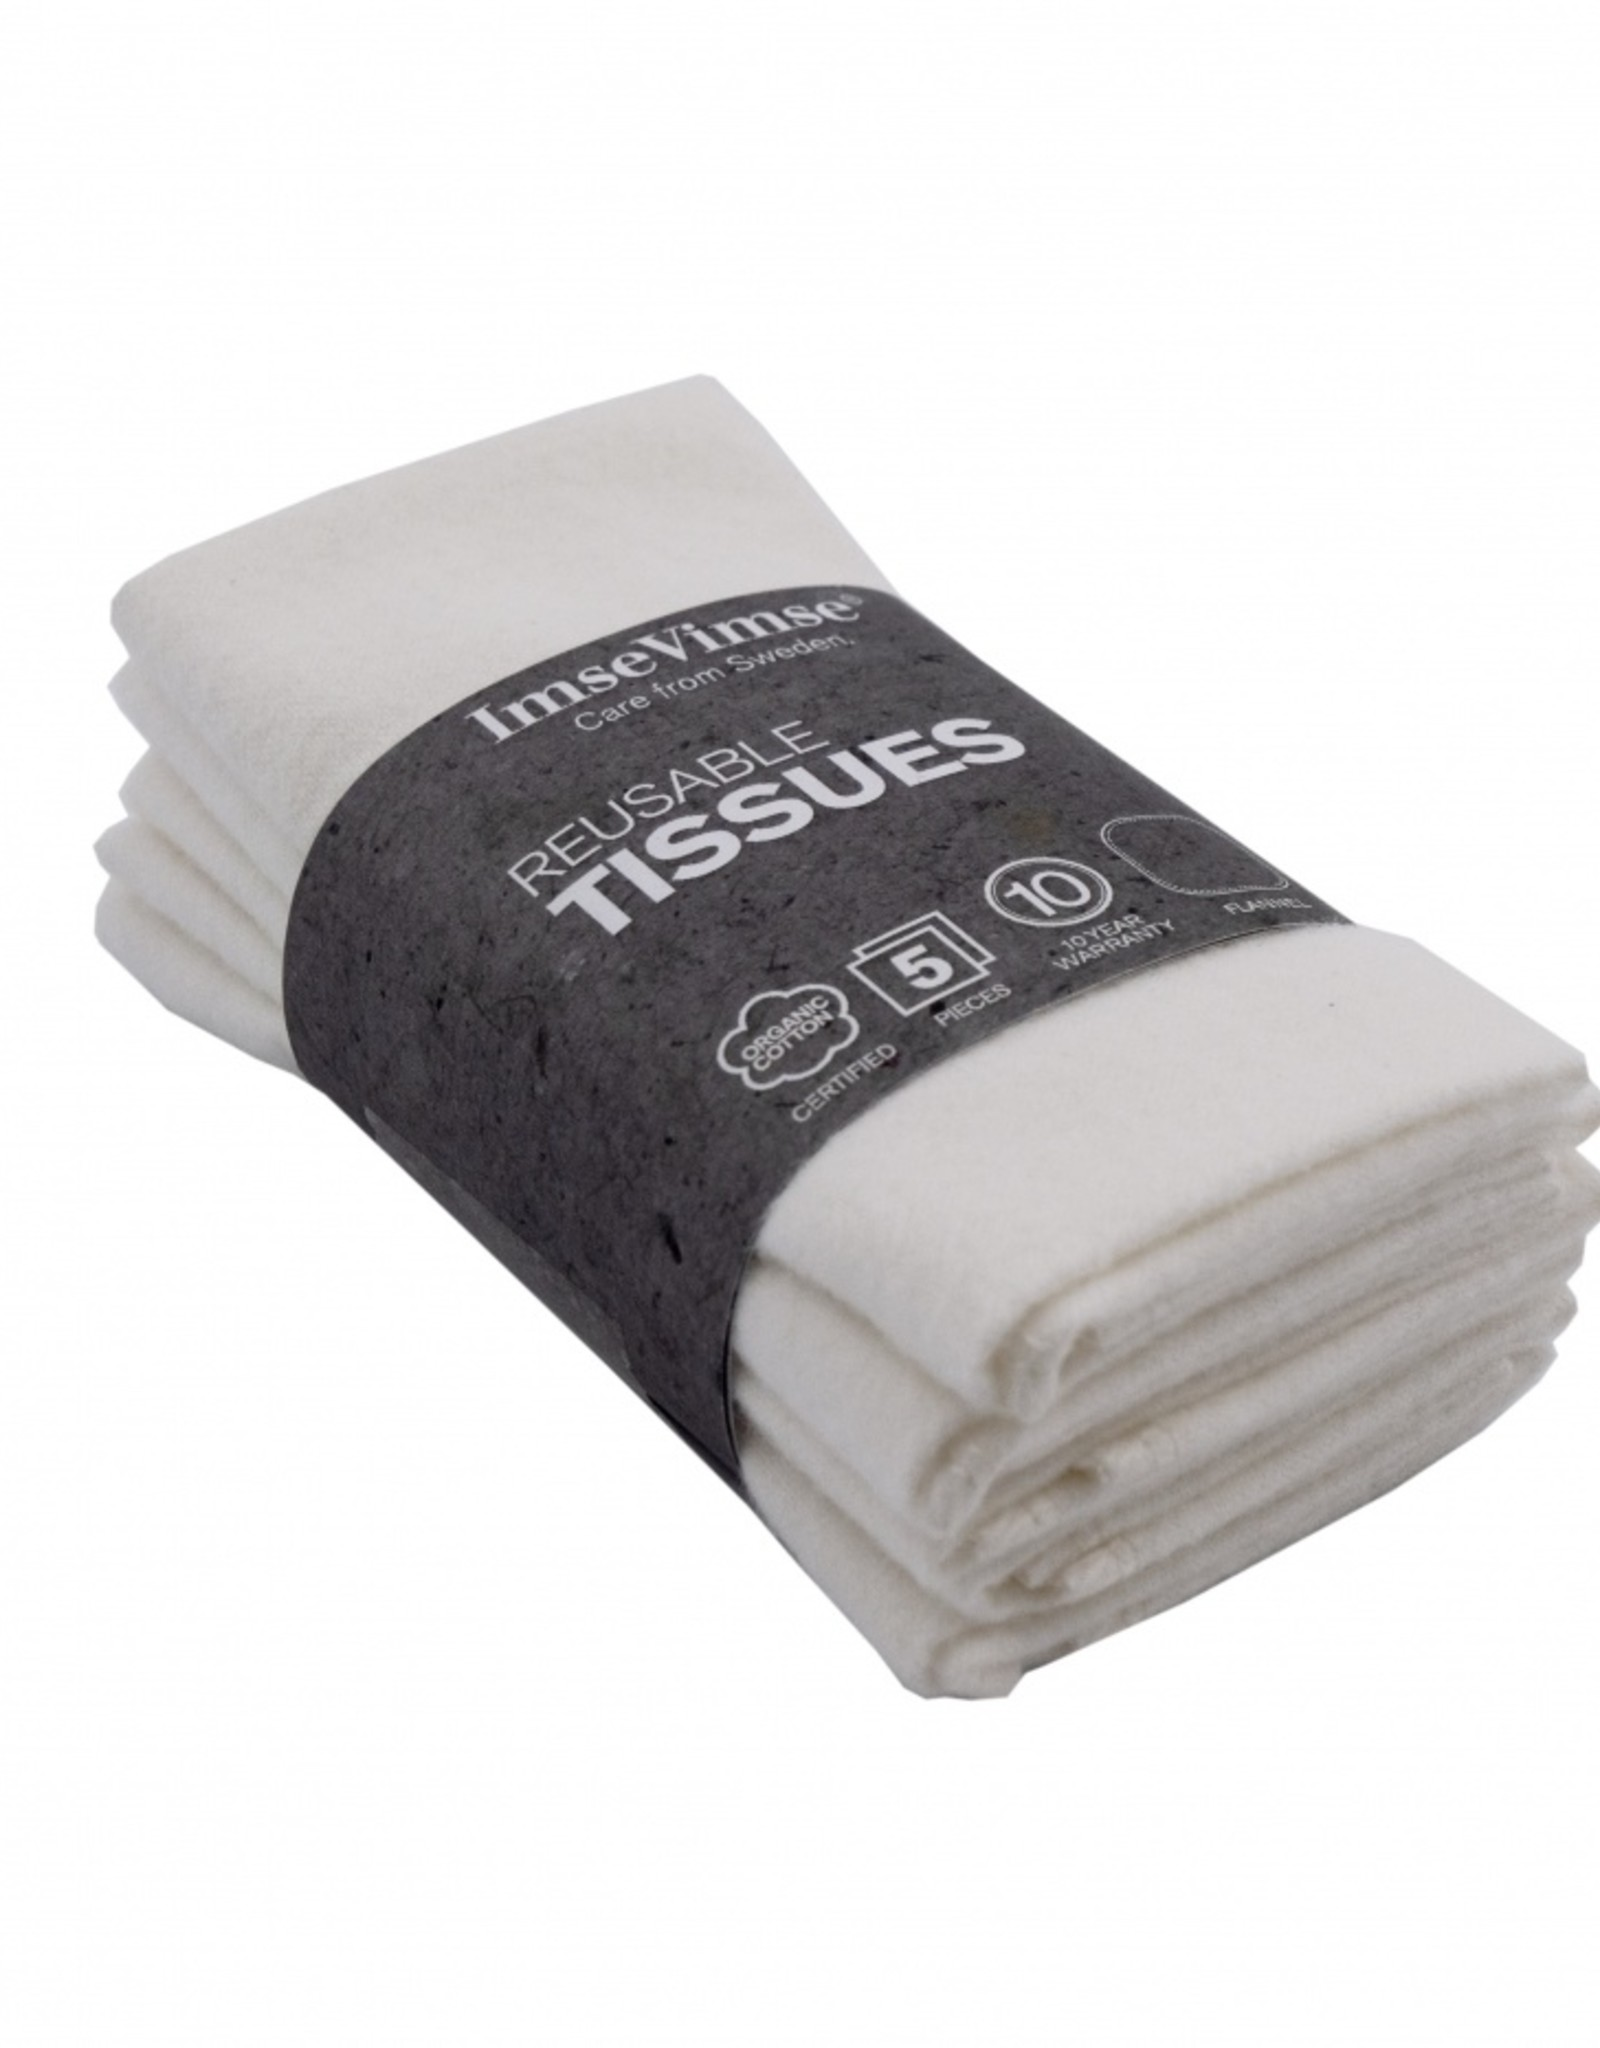Tissue: (86, 371, 1600, 1714)
